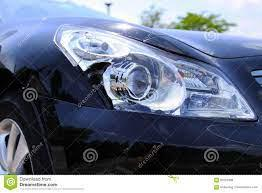Headlight-Damage: (53, 25, 261, 131)
